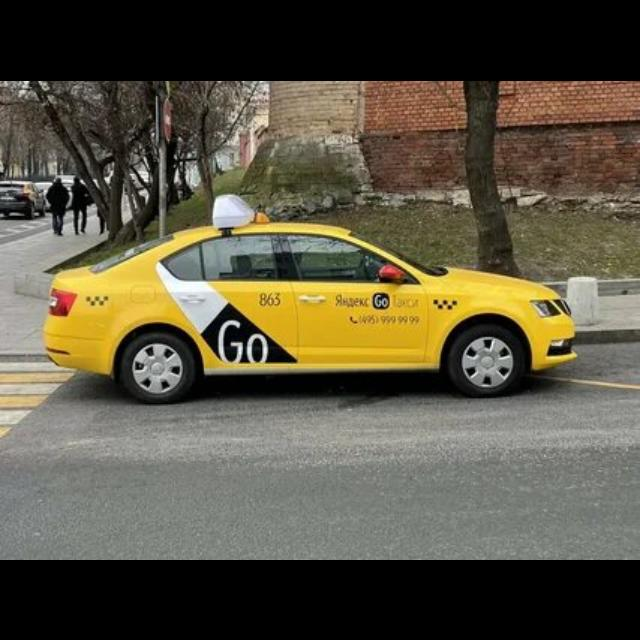taxi: (44, 193, 579, 404)
